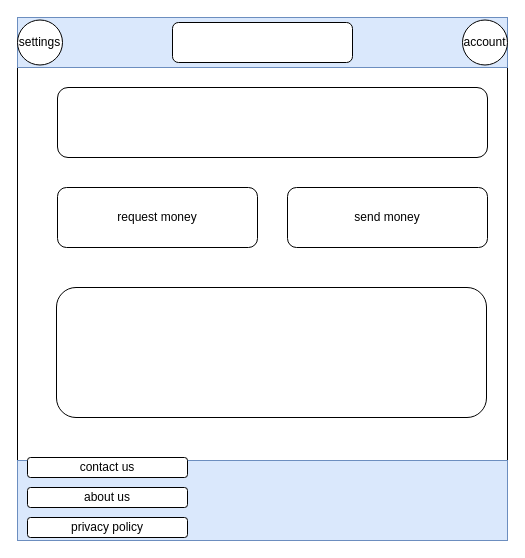
The diagram is 525 pixels wide and 558 high, and some of its shapes have lost their labels. The centre of each missing label's shape, as x and y in pixels:
"balance: £20000000" goes at (272,122).
"bank name" goes at (262,42).
"bitcoin worth chart" goes at (271,352).
